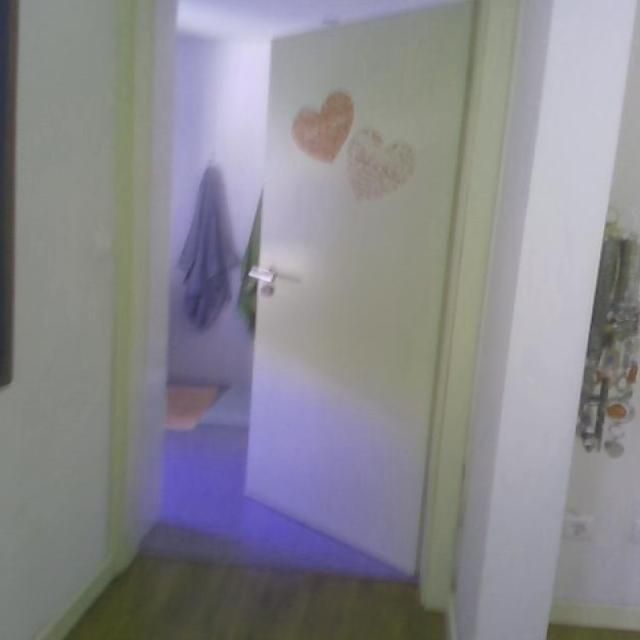door: (241, 0, 479, 578)
